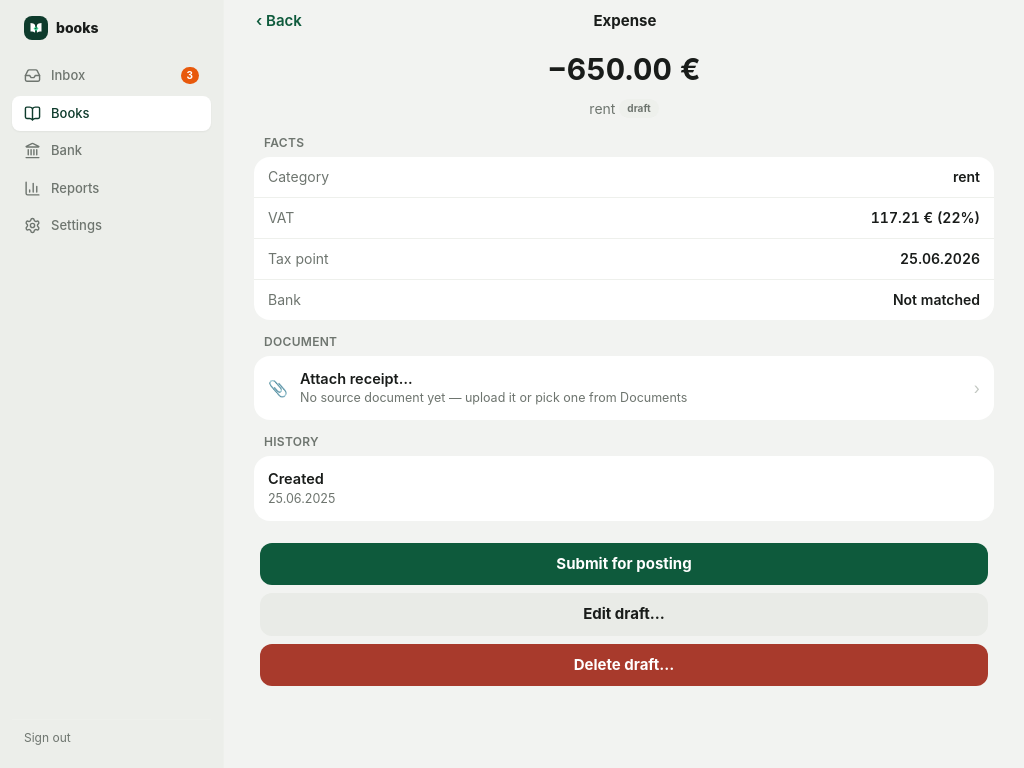
Test case: pending Books record → its own approval (#262) › draft → Submit (held) over a fresh cached list: the new approval is found (#261 gate)
The image size is (1024, 768).
Step 1. Click the button "Submit for posting" → (624, 564), box [260,542,988,585]
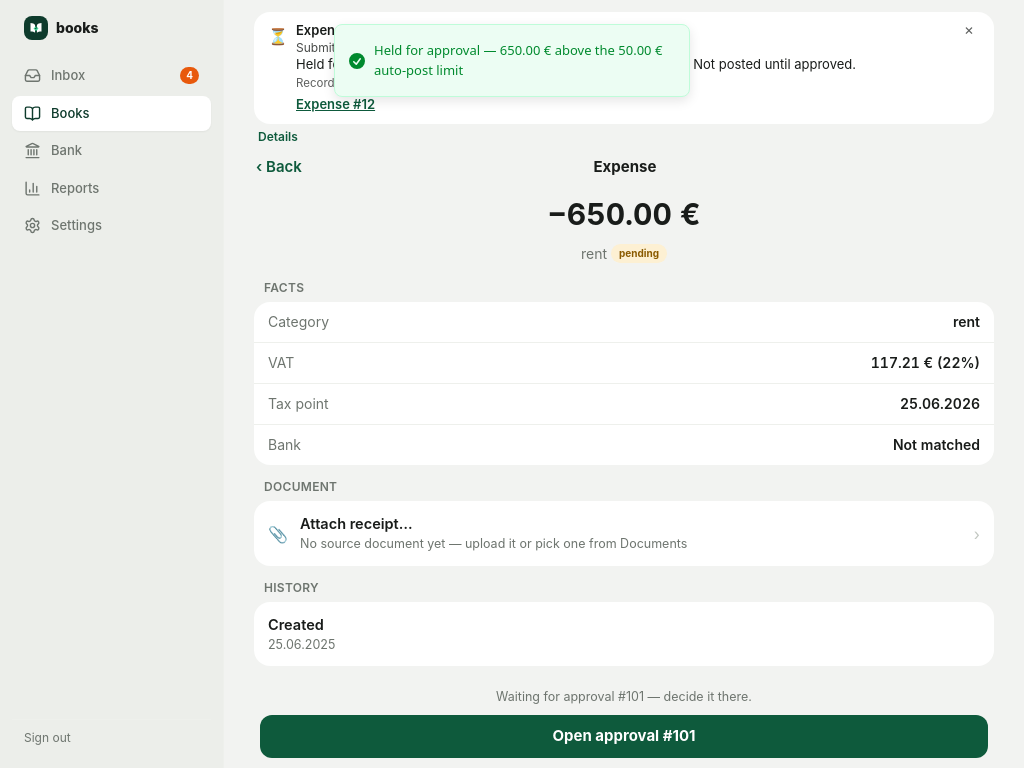
Now the link "Open approval #101" is shown, box [260,715,988,758]
